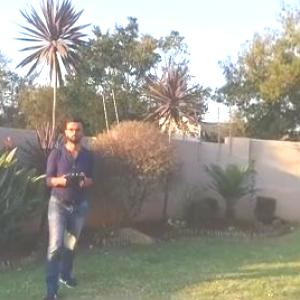follow: (37, 111, 95, 299)
